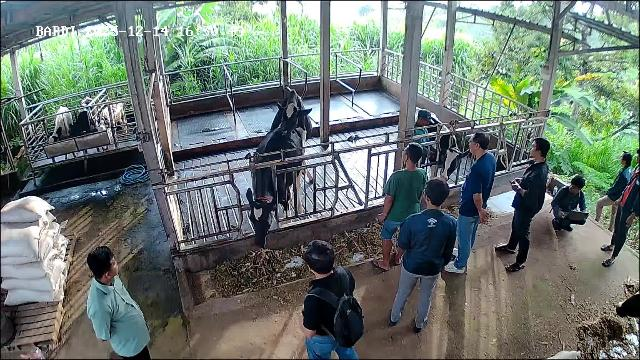mounting: (269, 89, 313, 187)
